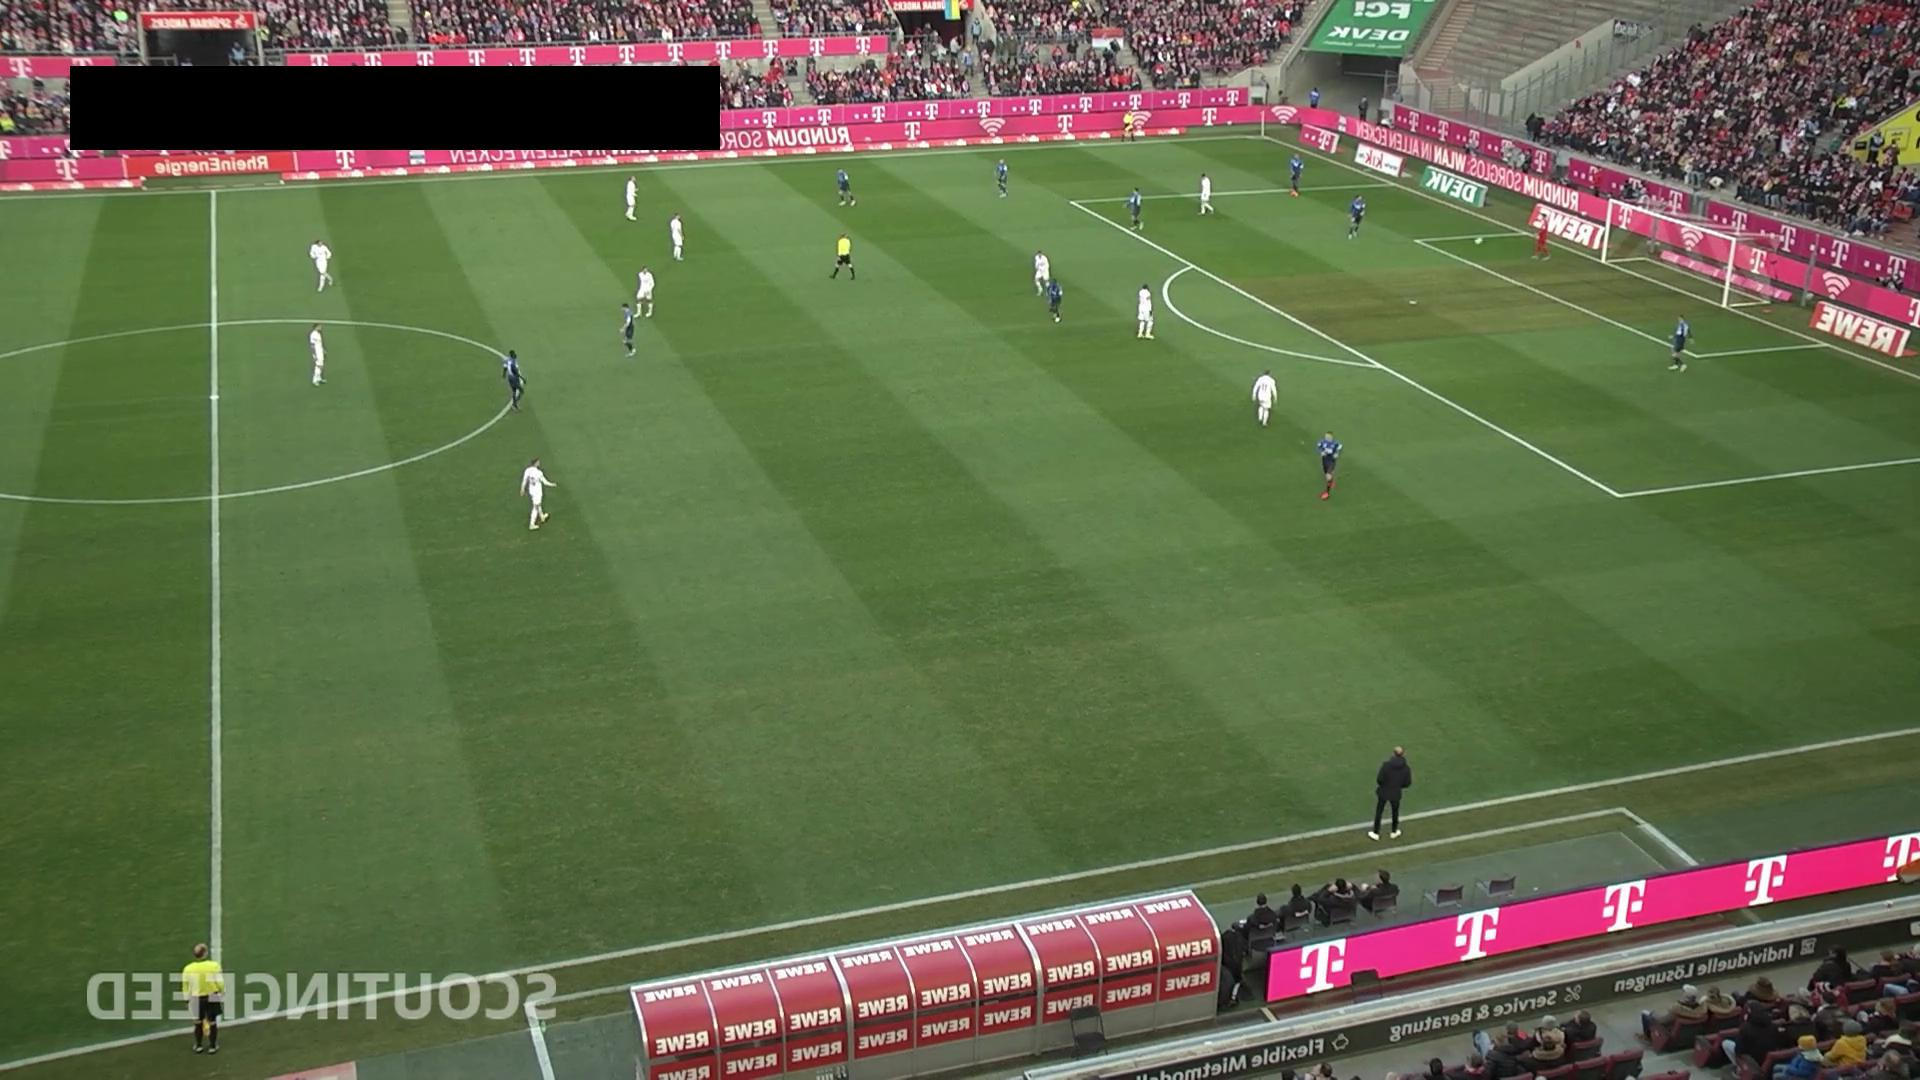ball: (1473, 236, 1485, 247)
goalkeeper: (1530, 209, 1550, 260)
player: (520, 457, 558, 530), (1316, 429, 1343, 500), (1251, 367, 1278, 426), (502, 348, 526, 412), (1668, 314, 1692, 372), (309, 237, 333, 292), (309, 322, 327, 386), (1136, 282, 1155, 339), (636, 264, 655, 319), (619, 302, 636, 358), (1124, 186, 1143, 230), (1033, 249, 1050, 297), (1046, 278, 1064, 323), (669, 211, 685, 261), (1348, 195, 1366, 239), (836, 168, 856, 206), (1288, 153, 1304, 197), (1198, 171, 1214, 215), (625, 176, 639, 221), (994, 158, 1009, 197)
referee: (182, 942, 225, 1054), (829, 231, 856, 281), (1121, 108, 1136, 144)
